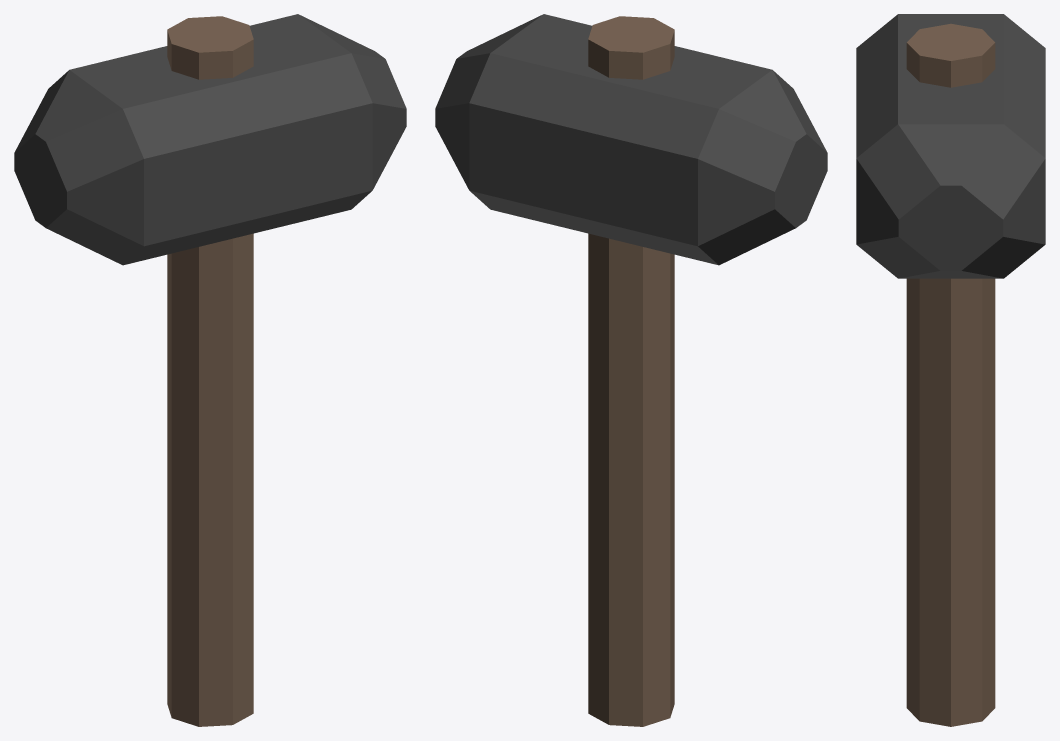
File: Hammer.fbx
3 views of the same model, side by side, from view 1: azimuth 30°, elevation 25°; view 2: azimuth 150°, elevation 25°; view 3: azimuth 270°, elevation 25° (orthographic).
Parts seen in each view (by area): view 1: Hammer; view 2: Hammer; view 3: Hammer.
Boxes of the visible parts, bbox=[...] form: Hammer: bbox=[14, 14, 406, 726]; Hammer: bbox=[435, 14, 827, 726]; Hammer: bbox=[856, 14, 1045, 726].
Bounding box in the file's own units: 30.32 × 14.81 × 57.5.
